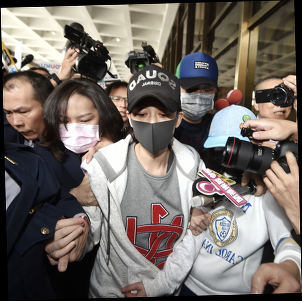with_mask: (131, 102, 179, 158), (58, 110, 102, 153), (178, 84, 217, 121)
without_mask: (3, 101, 46, 142), (256, 85, 292, 121), (109, 92, 129, 123)
